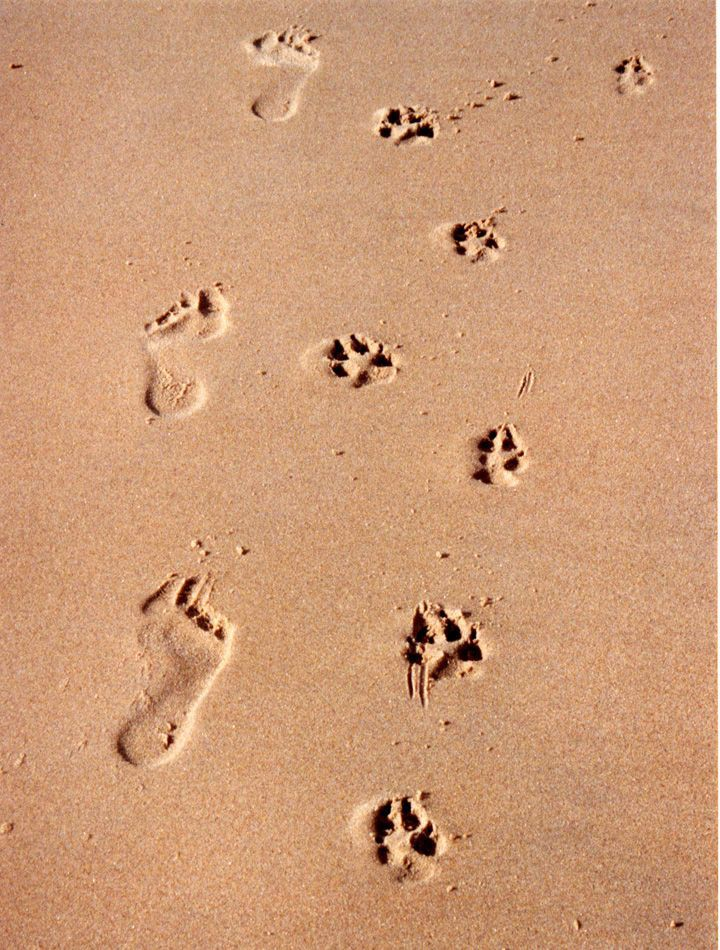human_foot_print: (122, 571, 234, 776), (140, 278, 233, 431), (392, 588, 505, 698), (354, 782, 462, 882), (239, 24, 330, 136), (456, 409, 537, 491), (306, 328, 403, 390), (435, 205, 514, 270), (369, 96, 447, 155), (613, 52, 661, 107)
